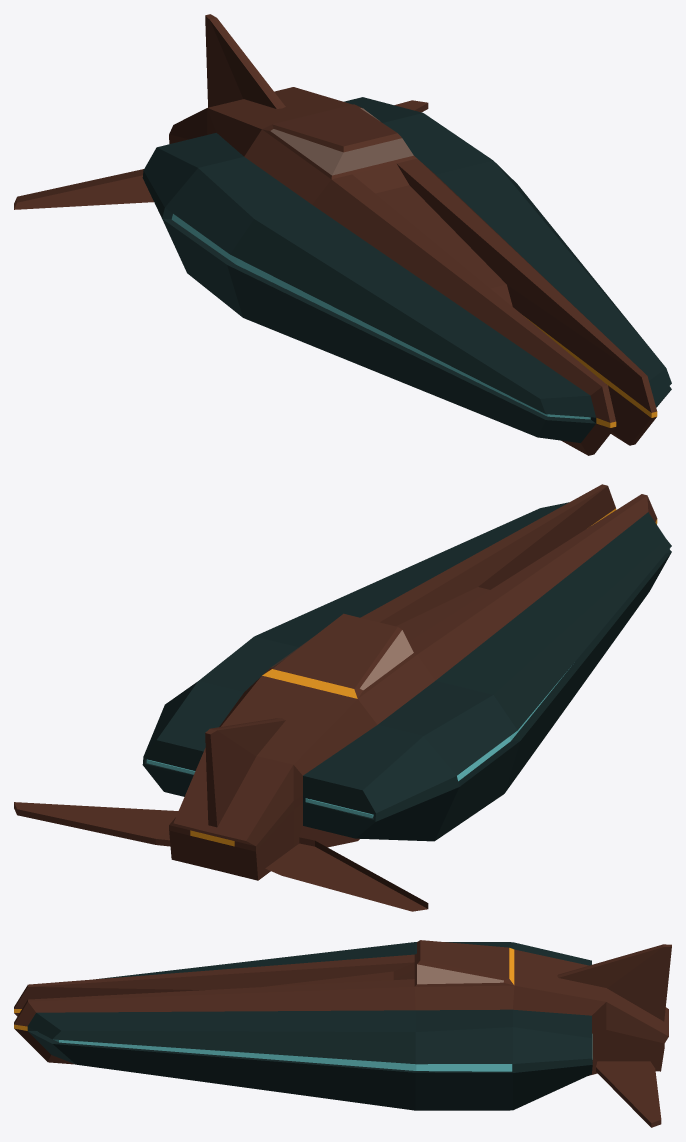
The model's file is raceship.gltf.
3 renders of one model, top to bottom at view 1: azimuth 30°, elevation 25°; view 2: azimuth 150°, elevation 25°; view 3: azimuth 270°, elevation 25°, orthographic. The views are drawn at different scales.
Parts seen in each view (by area): view 1: main, aileron, aile2; view 2: main, aile2, aileron, aile1; view 3: main, aileron, aile1.
Part boxes in pixels (bbox=[...]): main: bbox=[142, 87, 671, 455]; aileron: bbox=[205, 14, 285, 108]; aile2: bbox=[14, 169, 153, 209]; main: bbox=[142, 484, 671, 880]; aile2: bbox=[265, 837, 428, 911]; aileron: bbox=[205, 718, 285, 827]; aile1: bbox=[14, 802, 178, 846]; main: bbox=[14, 940, 668, 1110]; aileron: bbox=[557, 944, 671, 1021]; aile1: bbox=[596, 1061, 661, 1127].
Bounding box in the file's own units: 0.5447 × 0.2141 × 0.9698.
